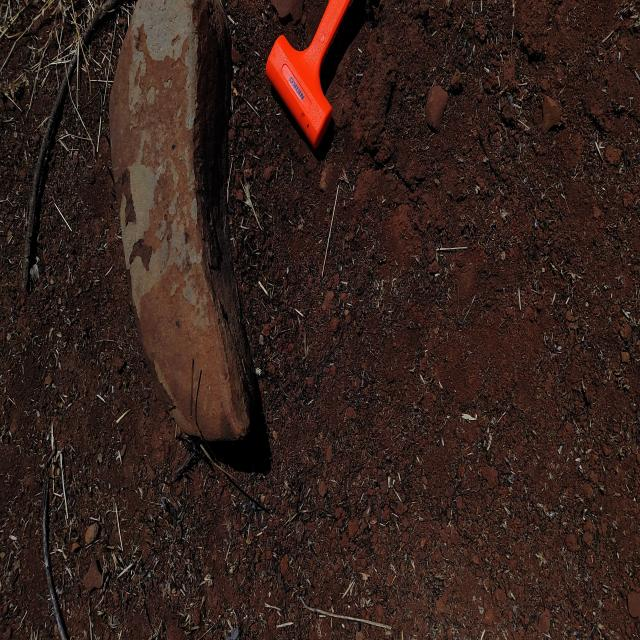Orange_hammer: (264, 0, 352, 151)
